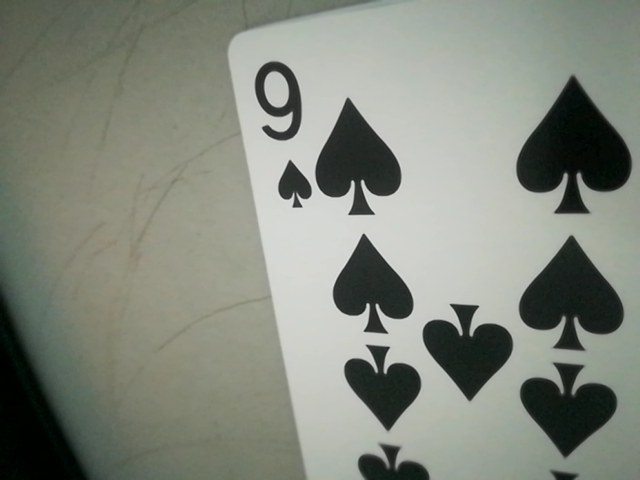ht 9: (240, 50, 321, 217)
